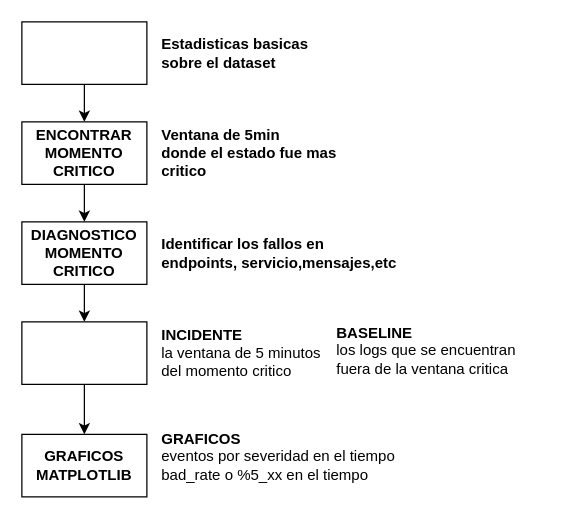
The diagram is 569 pixels wide and 531 high, and some of its shapes have lost their labels. Here are the shapes that lost their labels. From the top down, the centre of each, then its label:
At point (84, 52): "EXPLORACION INICIAL".
At point (84, 352): "INCIDENTE VS BASELINE".
